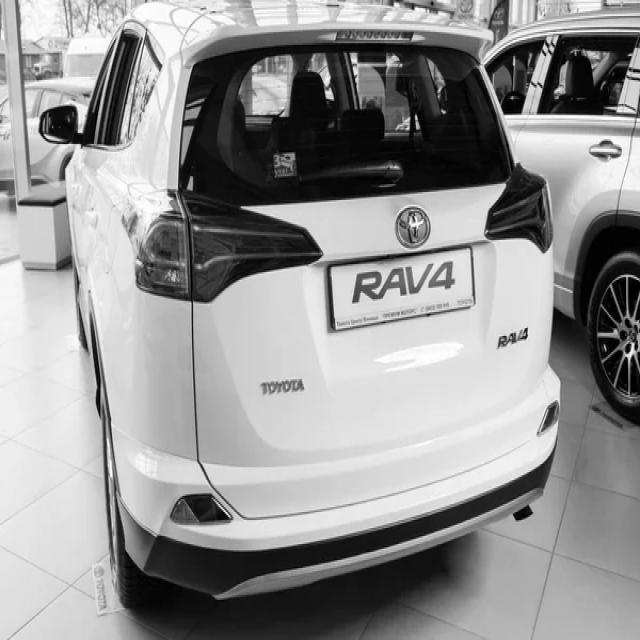Car: (41, 3, 561, 607), (486, 9, 640, 422)
